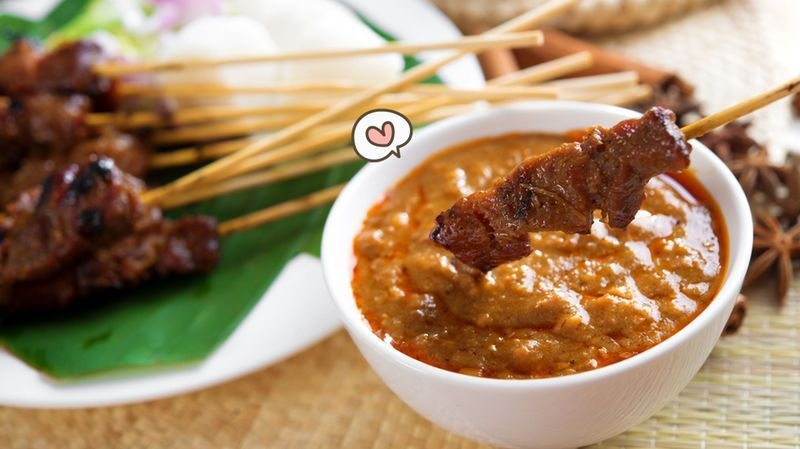sate: (433, 77, 800, 296)
